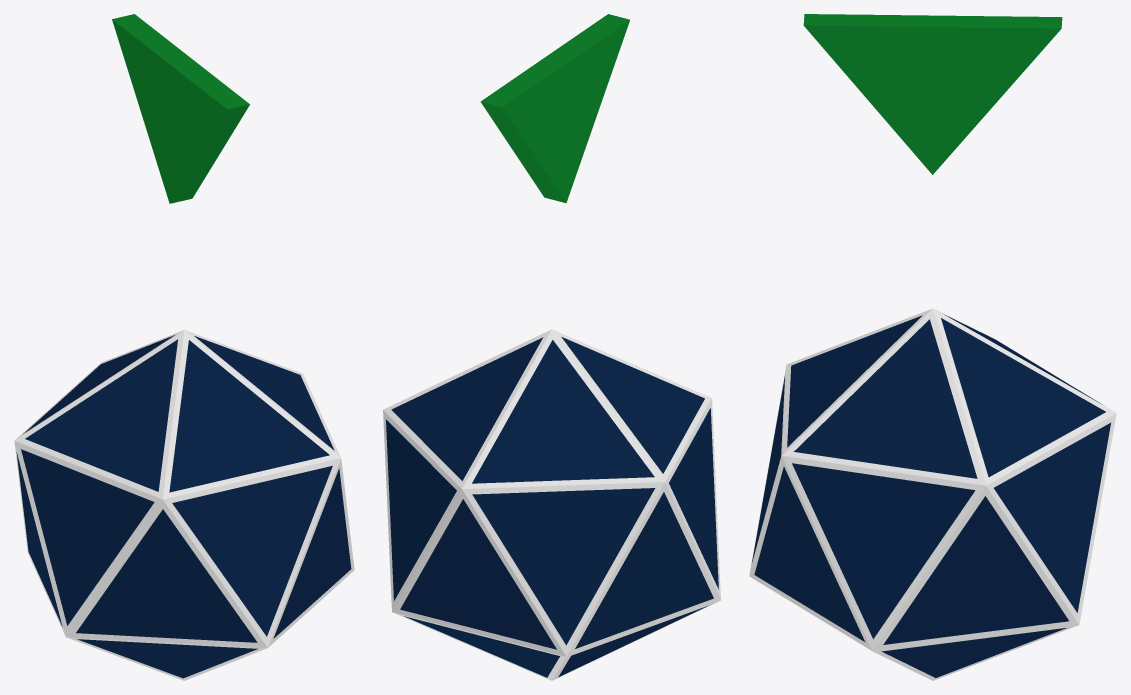
The model's file is BlueRock.glb.
3 views of the same model, side by side, from view 1: azimuth 30°, elevation 25°; view 2: azimuth 150°, elevation 25°; view 3: azimuth 270°, elevation 25° (orthographic). The views are drawn at different scales.
Parts seen in each view (by area): view 1: craftrock3; view 2: craftrock3; view 3: craftrock3.
Boxes of the visible parts, x1,y1,x2,y2 form: craftrock3: (14,14,354,680); craftrock3: (383,14,720,680); craftrock3: (749,14,1116,680).
Size of what is drawn, in the model's own units: 0.9993 by 2.06 by 1.04.
1 material, 1 textured.
